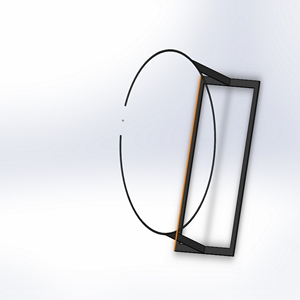circle: (115, 48, 264, 259)
